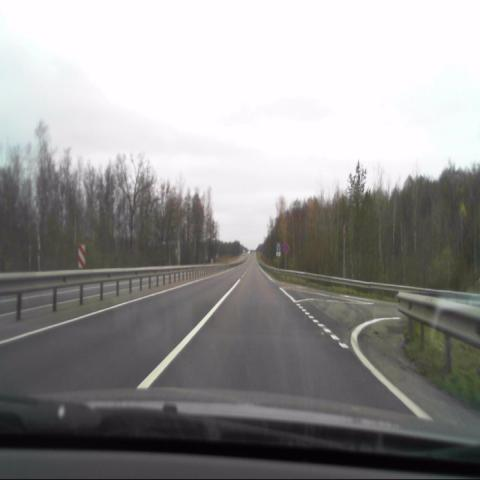3_27: (282, 241, 290, 254)
